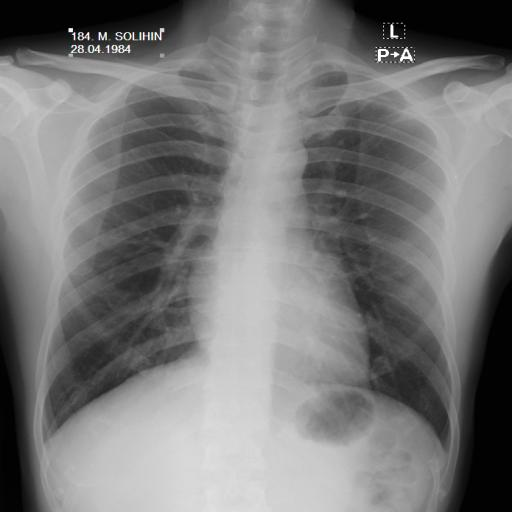normal: (30, 31, 464, 466)
